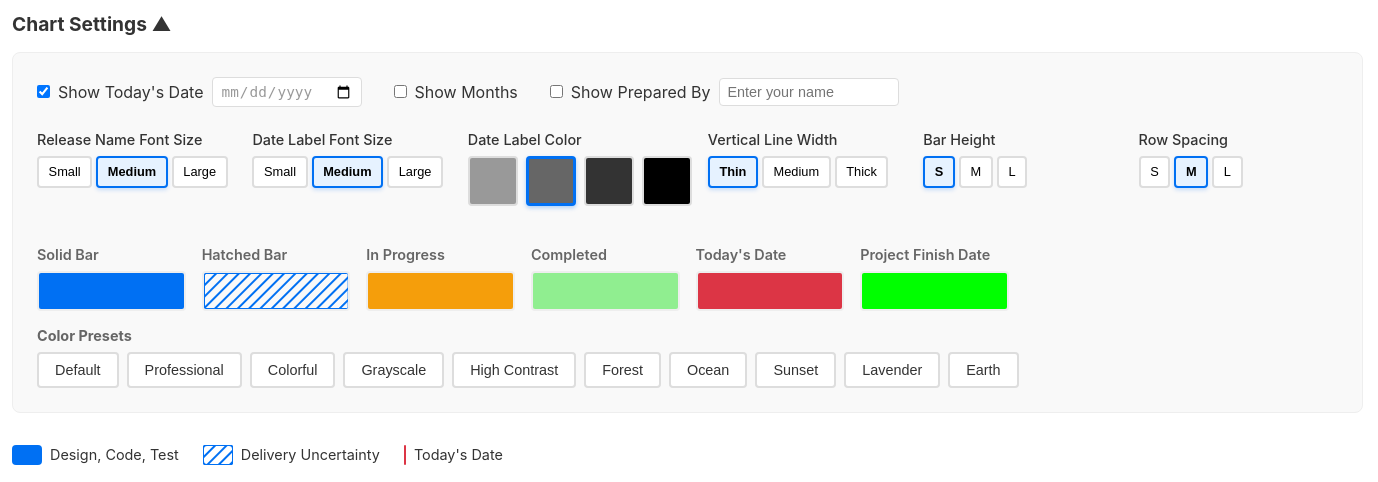
it: status date — settings ↔ context ↔ storage ↔ legend (v0.28.0) › setting a status date persists it and flips the legend wording
The image size is (1378, 482).
Check: the text "Today's Date" is shown, box x1=414 y1=446 x2=503 y2=464
In the date field named "Status date": (286,92) x1=212 y1=77 x2=362 y2=107, type "2026-08-19"
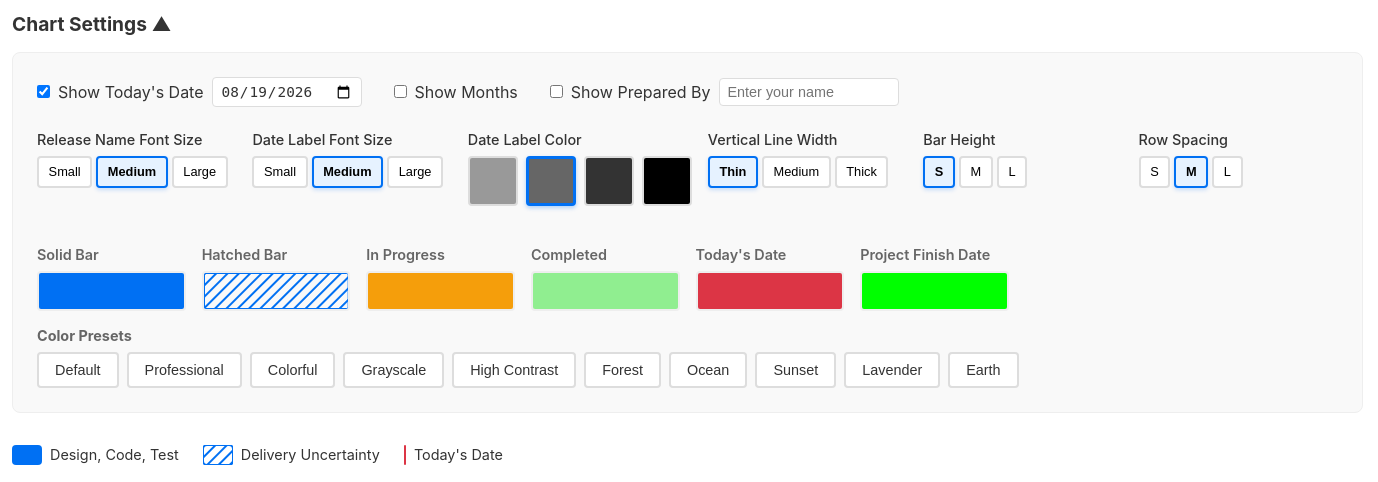
Leave the date field named "Status date", box x1=212 y1=77 x2=362 y2=107
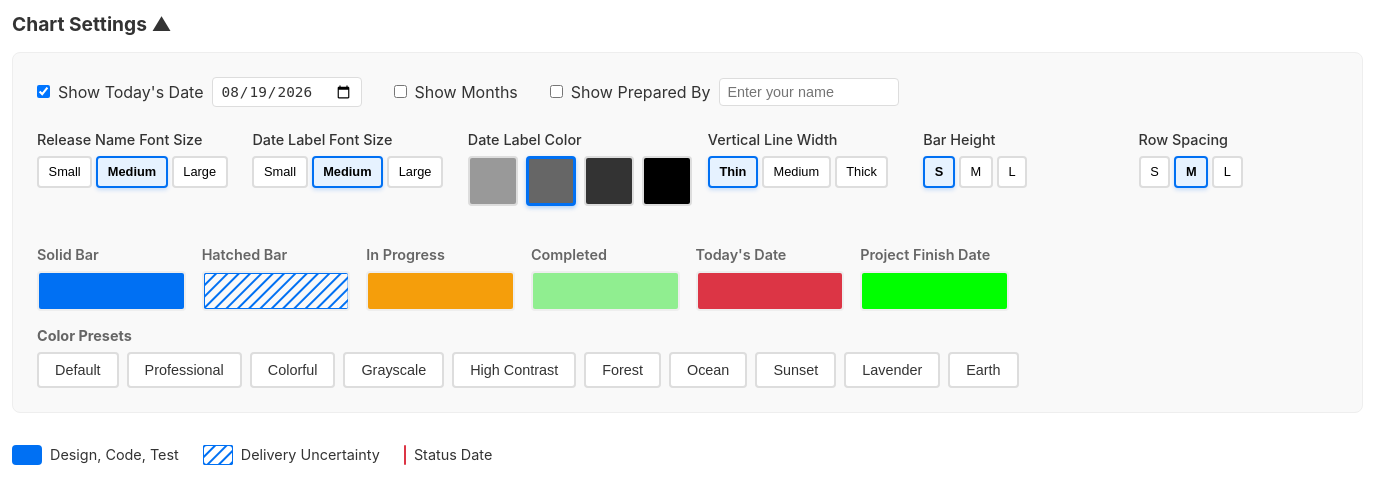
Check: the text "Status Date" is shown, box x1=414 y1=446 x2=492 y2=464
